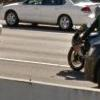Motorcycle: (61, 22, 100, 76)
